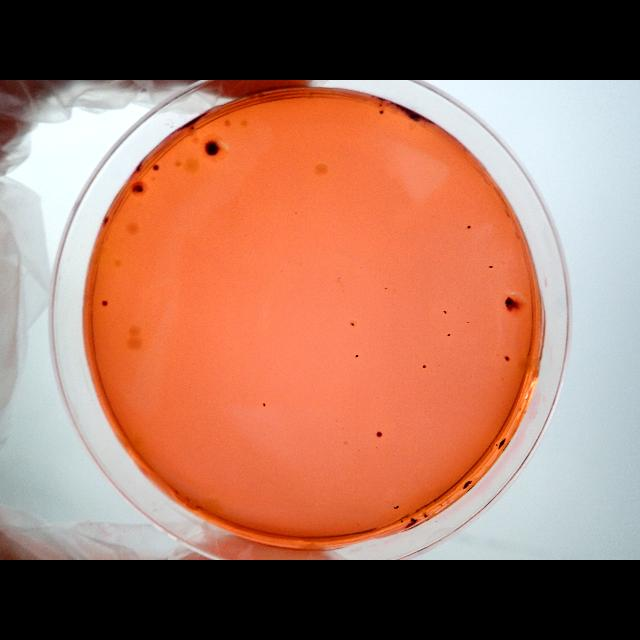colony: (498, 290, 520, 314), (203, 140, 221, 156), (131, 182, 149, 198), (498, 437, 508, 449), (462, 479, 472, 489), (152, 164, 160, 172), (100, 299, 108, 307), (375, 430, 383, 438), (504, 355, 510, 363), (442, 309, 448, 315), (466, 224, 472, 230), (350, 321, 356, 327), (410, 518, 416, 522), (422, 364, 426, 370), (447, 332, 451, 338), (488, 265, 494, 269), (354, 354, 360, 358), (262, 402, 266, 408), (137, 167, 141, 171), (380, 110, 384, 114), (191, 126, 195, 130), (401, 519, 404, 523), (396, 505, 398, 509), (496, 443, 498, 447), (394, 506, 396, 508)
